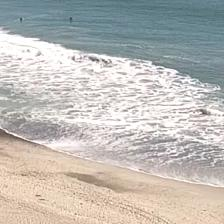surfer: (70, 17, 72, 21), (20, 17, 22, 21)
